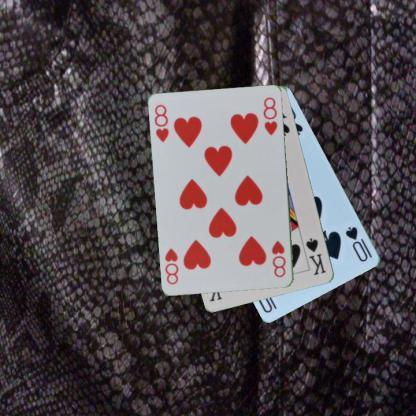10s: (342, 223, 374, 264)
8h: (269, 238, 288, 278), (152, 102, 170, 144)
Ks: (303, 235, 328, 277)
